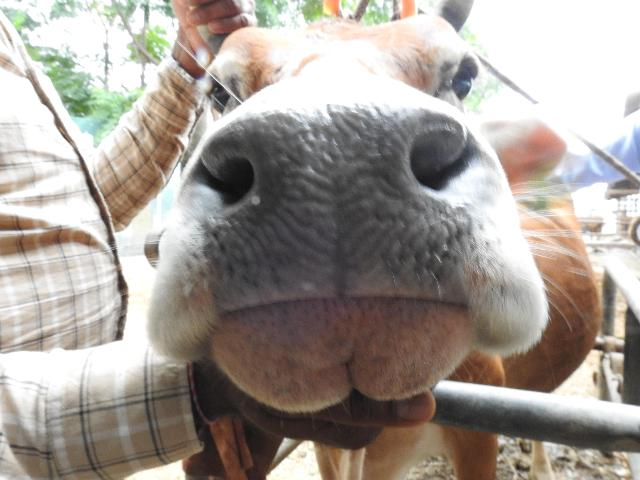Muzzle: (258, 115, 409, 287)
